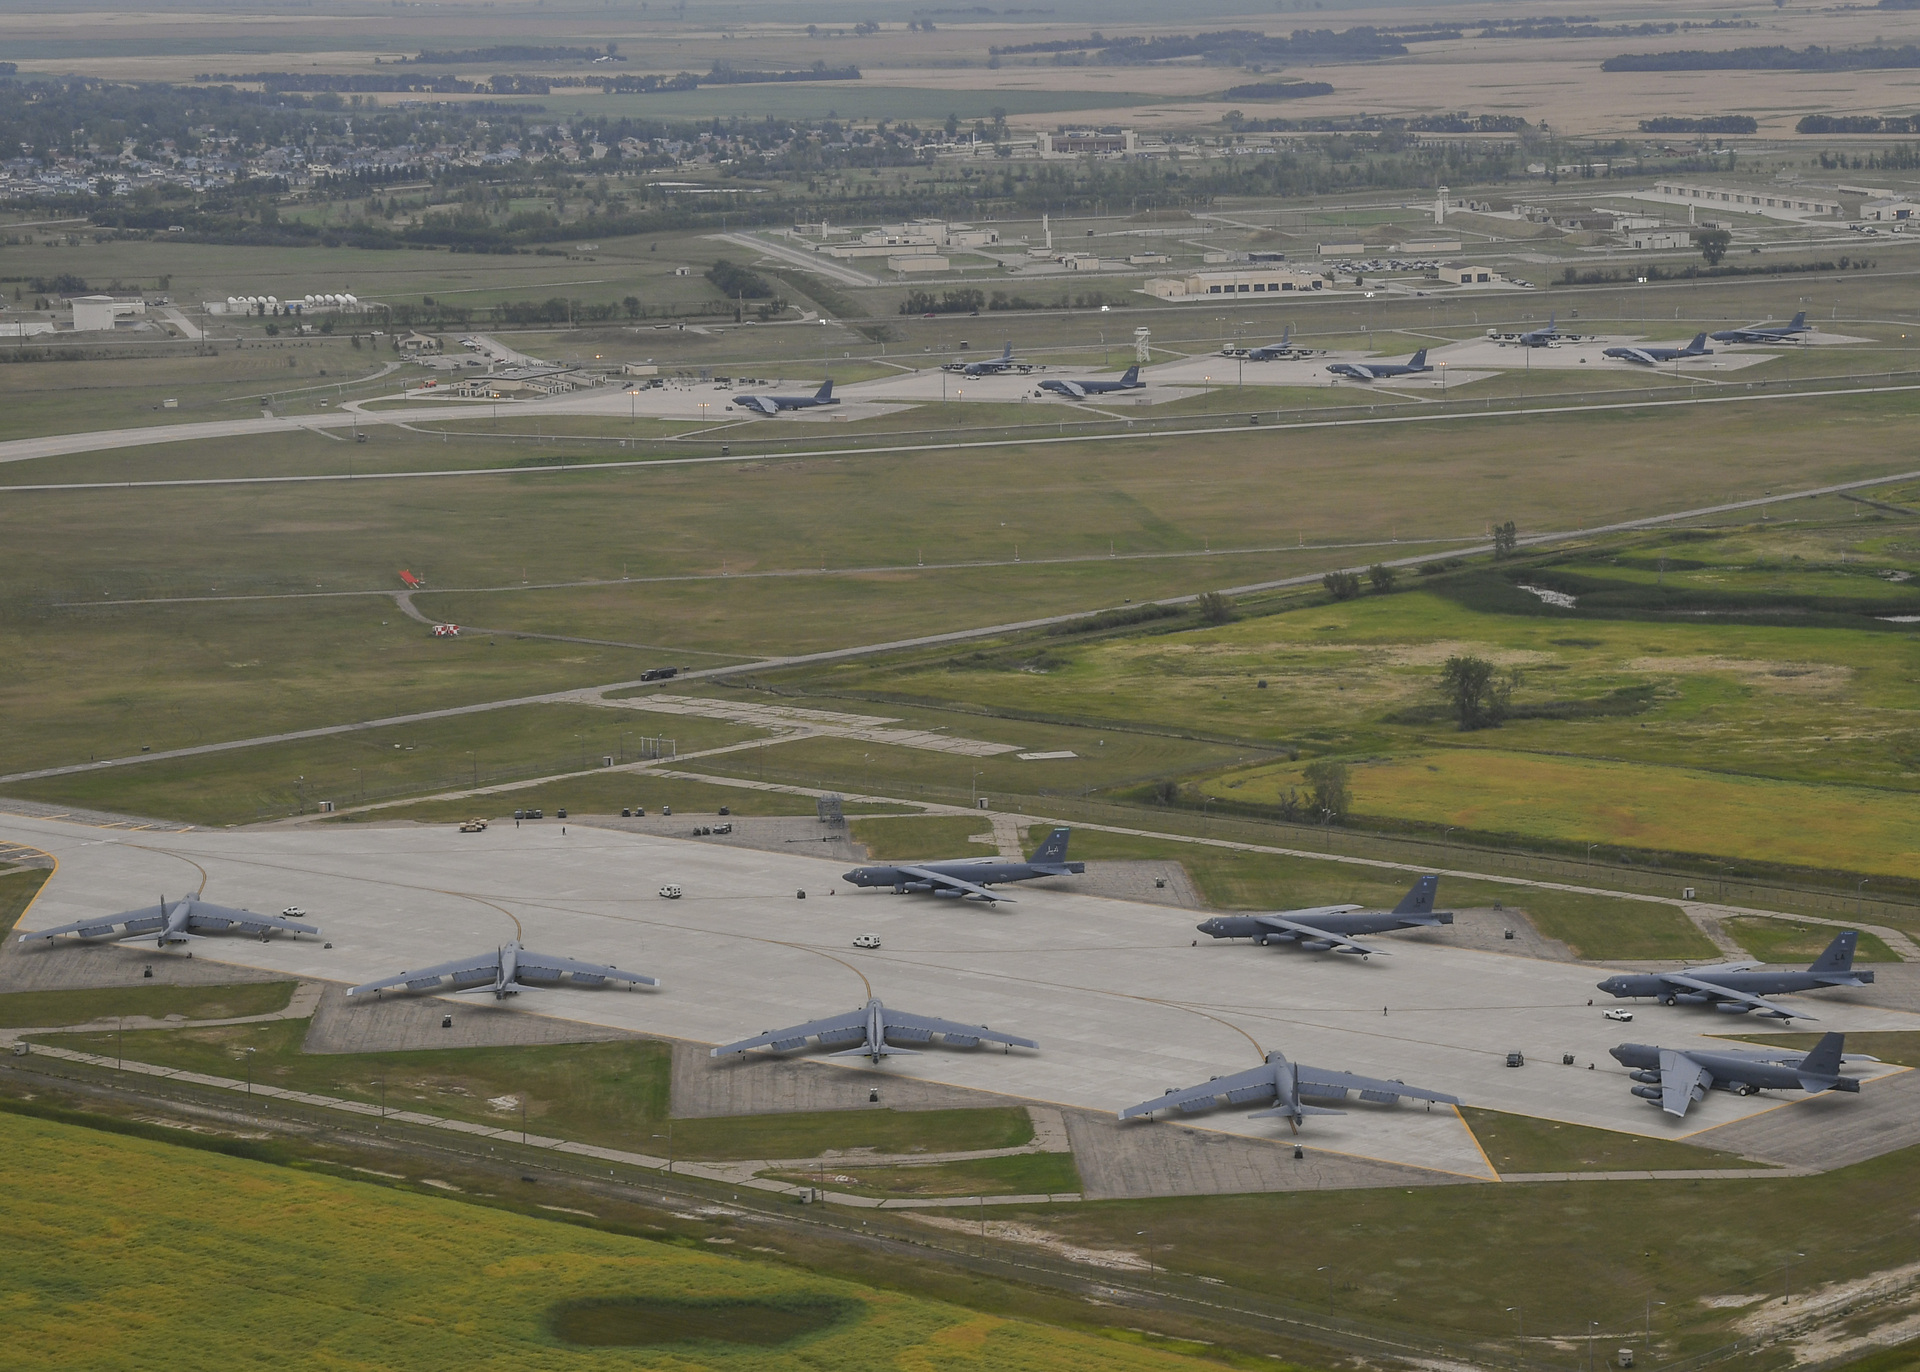B52: (1117, 1048, 1466, 1128), (1596, 930, 1875, 1026), (1608, 1030, 1881, 1120), (708, 995, 1039, 1066), (1195, 875, 1454, 961), (840, 826, 1085, 909), (346, 938, 661, 1001), (18, 891, 324, 947), (1215, 324, 1333, 362), (933, 339, 1051, 377), (1480, 310, 1601, 347), (731, 379, 840, 419), (1036, 364, 1146, 401), (1601, 331, 1715, 367), (1708, 309, 1815, 344), (1325, 347, 1434, 382)
